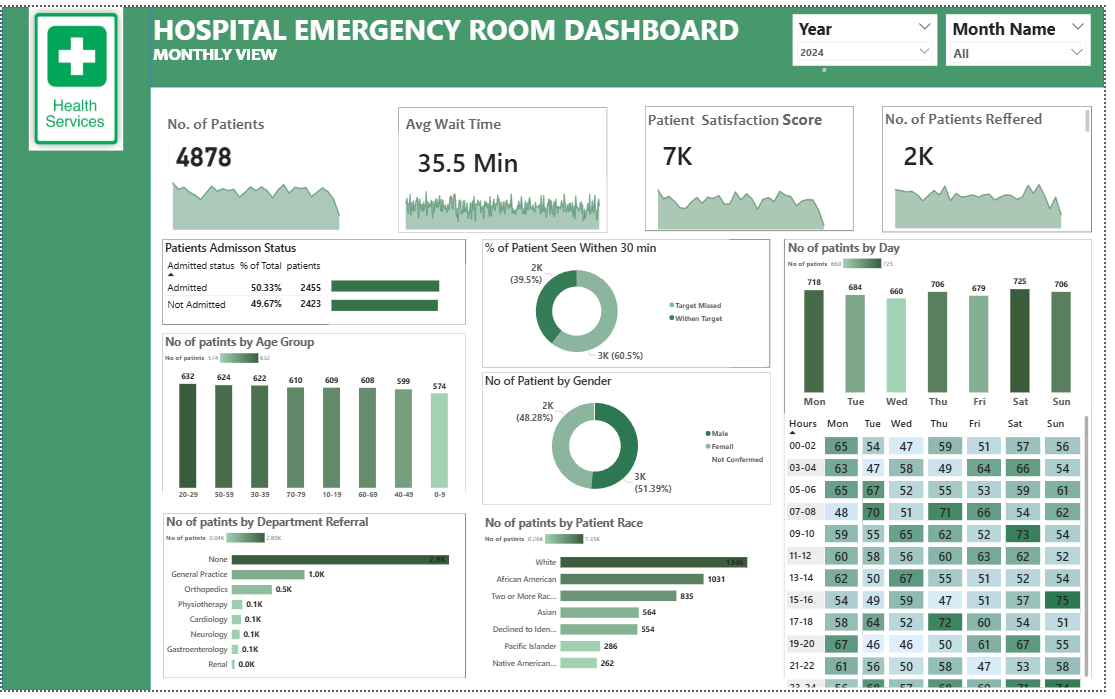

This screenshot's page, from the dashboard's own definition file:
{"tool":"powerbi","page":{"name":"Page 1","canvas":[2300,1425],"ordinal":0},"visuals":[{"type":"shape","box":[1836.7,208,436.2,261.7],"z":0},{"type":"shape","box":[1342.3,208,434,259.5],"z":1000},{"type":"shape","box":[0,0,310,1425],"z":2000},{"type":"shape","box":[310,0,1990,167.5],"z":3000},{"type":"textbox","box":[311,0,1248.3,140.9],"z":4000},{"type":"textbox","box":[310.4,69,351.8,71.3],"z":5000},{"type":"shape","box":[330,210,435,260],"z":6000},{"type":"cardVisual","fields":{"Data":["Hospital ER_Data.No of patints"]},"box":[330,262.5,180,95],"z":7000},{"type":"slicer","fields":{"Values":["Date Table.Month"]},"box":[1970.9,15.7,302,107.4],"z":8000},{"type":"slicer","fields":{"Values":["Date Table.Year"]},"box":[1651,15.7,302,107.4],"z":9000},{"type":"textbox","box":[319.9,123,1404.9,17.9],"z":10000},{"type":"textbox","box":[1836.7,210.3,436.2,60.4],"z":11000},{"type":"textbox","box":[311,69.3,400.4,71.6],"z":12000},{"type":"areaChart","fields":{"Category":["Date Table.Date.Variation.Date Hierarchy.Day"],"Y":["Hospital ER_Data.No of patints"]},"box":[330,340,435,130],"z":13000},{"type":"shape","box":[827.7,210.3,435,260],"z":14000},{"type":"textbox","box":[1342.3,208,416.1,80.5],"z":15000},{"type":"areaChart","fields":{"Y":["Avg(Hospital ER_Data.Patient Waittime)"],"Category":["Date Table.Date.Variation.Date Hierarchy.Year","Date Table.Date.Variation.Date Hierarchy.Quarter","Date Table.Date.Variation.Date Hierarchy.Month","Date Table.Date.Variation.Date Hierarchy.Day"]},"box":[827.7,357.9,434,111.9],"z":16000},{"type":"cardVisual","fields":{"Data":["Hospital ER_Data.avg waiting time"]},"box":[827.5,262.5,295,95],"z":17000},{"type":"textbox","box":[836.7,219.2,286.3,51.5],"z":18000},{"type":"cardVisual","fields":{"Data":["Sum(Hospital ER_Data.Patient Satisfaction Score)"]},"box":[1350,257.5,167.5,97.5],"z":19000},{"type":"cardVisual","fields":{"Data":["Hospital ER_Data.avg waiting time"]},"box":[837.5,272.5,295,95],"z":20000},{"type":"areaChart","fields":{"Y":["Sum(Hospital ER_Data.Patient Waittime)"],"Category":["Date Table.Date.Variation.Date Hierarchy.Day"]},"box":[1342.3,357.9,434,111.9],"z":21000},{"type":"textbox","box":[341.1,220.3,295.3,51.5],"z":22000},{"type":"cardVisual","fields":{"Data":["Hospital ER_Data.No of Patients reffered"]},"box":[1852.3,257.3,165.5,98.4],"z":23000},{"type":"areaChart","fields":{"Y":["Hospital ER_Data.No of Patients reffered"],"Category":["Date Table.Date.Variation.Date Hierarchy.Day"]},"box":[1836.7,355.7,434,111.9],"z":24000},{"type":"shape","box":[335,485,632.5,177.5],"z":25000},{"type":"pivotTable","title":"Patients Admisson Status","fields":{"Rows":["Hospital ER_Data.Admitted status"],"Values":["Hospital ER_Data.No of patints","Hospital ER_Data.No of patints1"]},"box":[335,485,630,177.5],"z":26000},{"type":"barChart","fields":{"Category":["Hospital ER_Data.Admitted status"],"Y":["Hospital ER_Data.No of patints"]},"box":[682.5,537.5,285,125],"z":27000},{"type":"shape","box":[335,682.5,632.5,330],"z":28000},{"type":"clusteredColumnChart","fields":{"Category":["Hospital ER_Data.Age Group"],"Y":["Hospital ER_Data.No of patints"]},"box":[335,682.5,632.5,355],"z":29000},{"type":"shape","box":[337.5,1057.5,630,342.5],"z":30000},{"type":"clusteredBarChart","fields":{"Y":["Hospital ER_Data.No of patints"],"Category":["Hospital ER_Data.Department Referral"]},"box":[337.5,1057.5,627.5,342.5],"z":31000},{"type":"shape","box":[1002.5,485,600,267.5],"z":32000},{"type":"donutChart","title":"% of Patient Seen Withen 30 min","fields":{"Y":["Hospital ER_Data.No of patints"],"Category":["Hospital ER_Data.Wiiting time"]},"box":[1002.5,485,515,267.5],"z":33000},{"type":"shape","box":[1002.5,762.5,600,275],"z":34000},{"type":"donutChart","title":"No of Patient by Gender","fields":{"Y":["Hospital ER_Data.No of patints"],"Category":["Hospital ER_Data.Patient Gender"]},"box":[1002.5,762.5,600,275],"z":35000},{"type":"shape","box":[1002.5,1060,600,342.5],"z":36000},{"type":"clusteredBarChart","fields":{"Category":["Hospital ER_Data.Patient Race"],"Y":["Hospital ER_Data.No of patints"]},"box":[1002.5,1060,600,340],"z":37000},{"type":"shape","box":[1632.5,485,640,915],"z":38000},{"type":"pivotTable","fields":{"Rows":["Hospital ER_Data.Waiting Interval"],"Columns":["Date Table.Day"],"Values":["Hospital ER_Data.No of patints"]},"box":[1632.5,847.5,640,577.5],"z":39000},{"type":"clusteredColumnChart","fields":{"Category":["Date Table.Day"],"Y":["Hospital ER_Data.No of patints"]},"box":[1635,485,637.5,362.5],"z":40000},{"type":"image","box":[0,0,308.5,300],"z":41000}]}

Visuals, with their boxes in screenshot pixels (x1, y1, x2, y2), scaled from the page's 2300x1425 canvas onto the 1115x699 screenshot:
shape: region(890, 102, 1102, 230)
shape: region(651, 102, 861, 229)
shape: region(0, 0, 150, 698)
shape: region(150, 0, 1114, 82)
textbox: region(151, 0, 756, 69)
textbox: region(150, 34, 321, 69)
shape: region(160, 103, 371, 231)
cardVisual - Hospital ER_Data.No of patints: region(160, 129, 247, 175)
slicer - Date Table.Month: region(955, 8, 1102, 60)
slicer - Date Table.Year: region(800, 8, 947, 60)
textbox: region(155, 60, 836, 69)
textbox: region(890, 103, 1102, 133)
textbox: region(151, 34, 345, 69)
areaChart - Date Table.Date.Variation.Date Hierarchy.Day x Hospital ER_Data.No of patints: region(160, 167, 371, 231)
shape: region(401, 103, 612, 231)
textbox: region(651, 102, 852, 142)
areaChart - Avg(Hospital ER_Data.Patient Waittime) x Date Table.Date.Variation.Date Hierarchy.Year: region(401, 176, 612, 230)
cardVisual - Hospital ER_Data.avg waiting time: region(401, 129, 544, 175)
textbox: region(406, 108, 544, 133)
cardVisual - Sum(Hospital ER_Data.Patient Satisfaction Score): region(654, 126, 736, 174)
cardVisual - Hospital ER_Data.avg waiting time: region(406, 134, 549, 180)
areaChart - Sum(Hospital ER_Data.Patient Waittime) x Date Table.Date.Variation.Date Hierarchy.Day: region(651, 176, 861, 230)
textbox: region(165, 108, 309, 133)
cardVisual - Hospital ER_Data.No of Patients reffered: region(898, 126, 978, 174)
areaChart - Hospital ER_Data.No of Patients reffered x Date Table.Date.Variation.Date Hierarchy.Day: region(890, 174, 1101, 229)
shape: region(162, 238, 469, 325)
"Patients Admisson Status" pivotTable: region(162, 238, 468, 325)
barChart - Hospital ER_Data.Admitted status x Hospital ER_Data.No of patints: region(331, 264, 469, 325)
shape: region(162, 335, 469, 497)
clusteredColumnChart - Hospital ER_Data.Age Group x Hospital ER_Data.No of patints: region(162, 335, 469, 509)
shape: region(164, 519, 469, 687)
clusteredBarChart - Hospital ER_Data.No of patints x Hospital ER_Data.Department Referral: region(164, 519, 468, 687)
shape: region(486, 238, 777, 369)
"% of Patient Seen Withen 30 min" donutChart: region(486, 238, 736, 369)
shape: region(486, 374, 777, 509)
"No of Patient by Gender" donutChart: region(486, 374, 777, 509)
shape: region(486, 520, 777, 688)
clusteredBarChart - Hospital ER_Data.Patient Race x Hospital ER_Data.No of patints: region(486, 520, 777, 687)
shape: region(791, 238, 1102, 687)
pivotTable - Hospital ER_Data.Waiting Interval x Date Table.Day: region(791, 416, 1102, 698)
clusteredColumnChart - Date Table.Day x Hospital ER_Data.No of patints: region(793, 238, 1102, 416)
image: region(0, 0, 150, 147)
